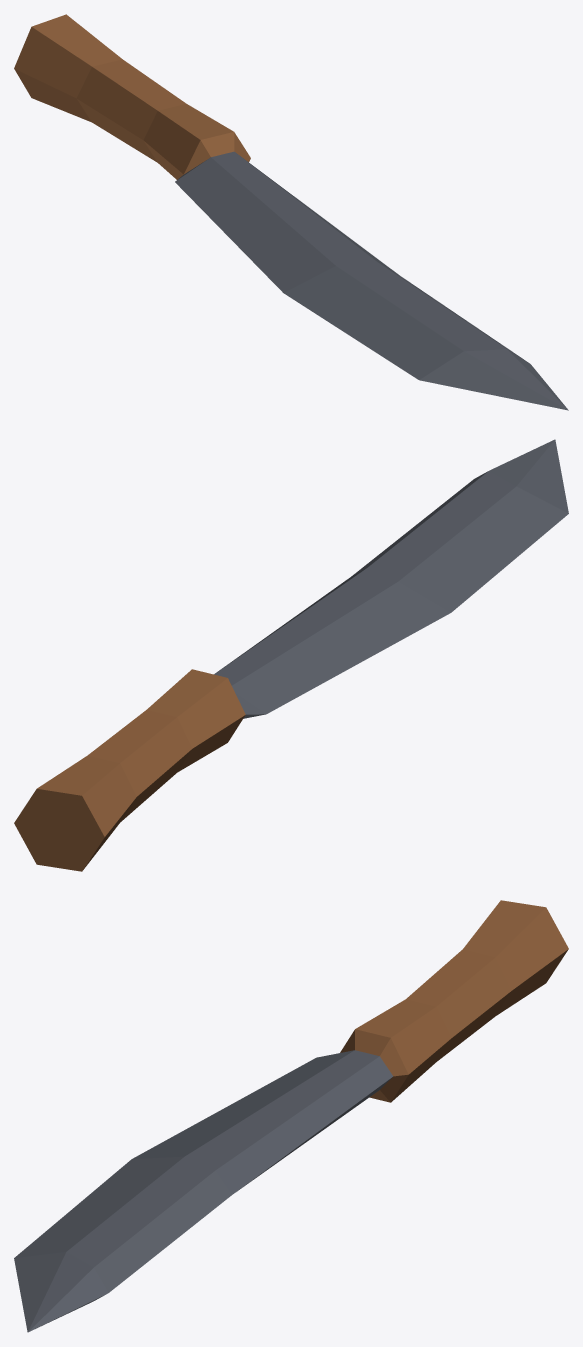
File: Knife.fbx
3 renders of one model, top to bottom at view 1: azimuth 30°, elevation 25°; view 2: azimuth 150°, elevation 25°; view 3: azimuth 330°, elevation 25°, orthographic. The views are drawn at different scales.
Parts seen in each view (by area): view 1: Knife; view 2: Knife; view 3: Knife.
Part boxes in pixels (left/top/right/bottom): Knife: left=14, top=14, right=568, bottom=410; Knife: left=14, top=439, right=568, bottom=871; Knife: left=14, top=900, right=568, bottom=1332.
Size of the model in its own units: 0.0896 by 0.6767 by 0.0536.
